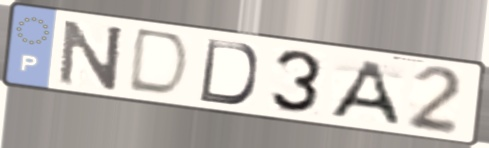2: (406, 63, 466, 137)
3: (266, 48, 330, 116)
A: (325, 58, 403, 128)
D: (123, 25, 194, 100), (195, 36, 260, 108)
N: (56, 17, 127, 92)
